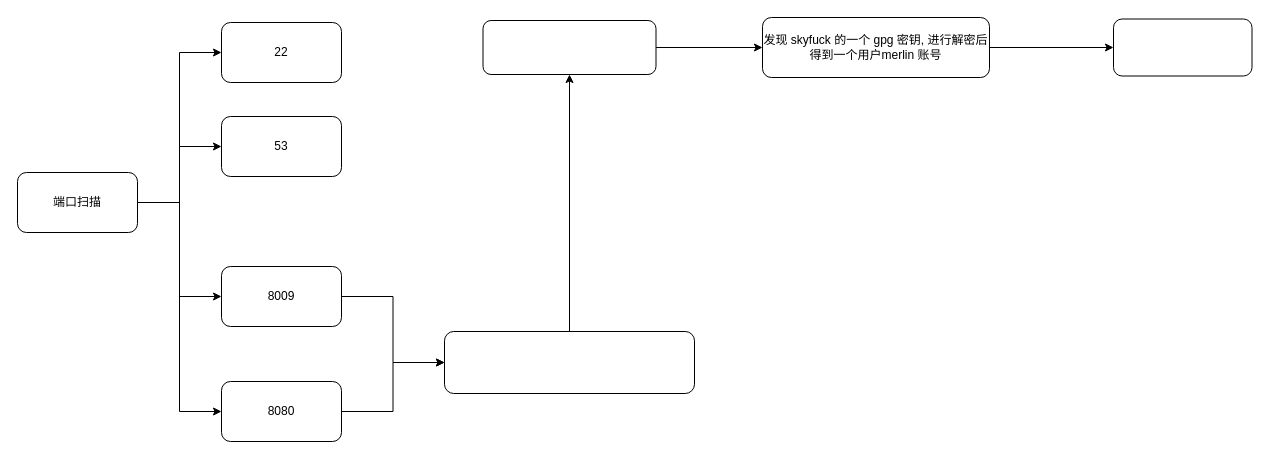
Some shapes in this 1270 by 459 pixel diagram are drawn without their labels. Each missing label, with the box of its shape:
切换 merlin 用户后发现其带有一个 SUDO 特权: (1112, 18, 1252, 76)
发现对应的存在 CVE 漏洞, 进行文件读取获取到一个 SSH 账号: (444, 330, 694, 394)
获取到用户 skfyfuck 的 Shell: (482, 20, 656, 74)
